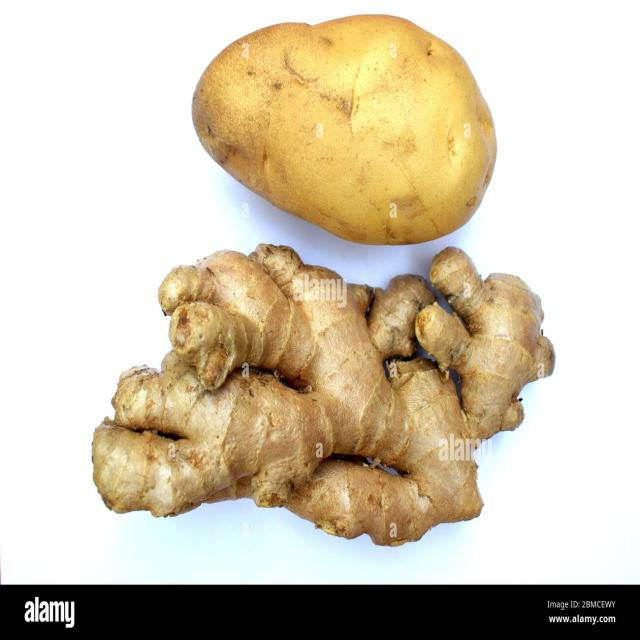ginger-root: (95, 242, 565, 551)
